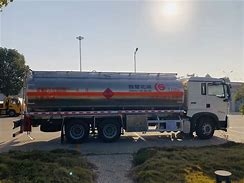oil truck: (13, 57, 234, 147)
